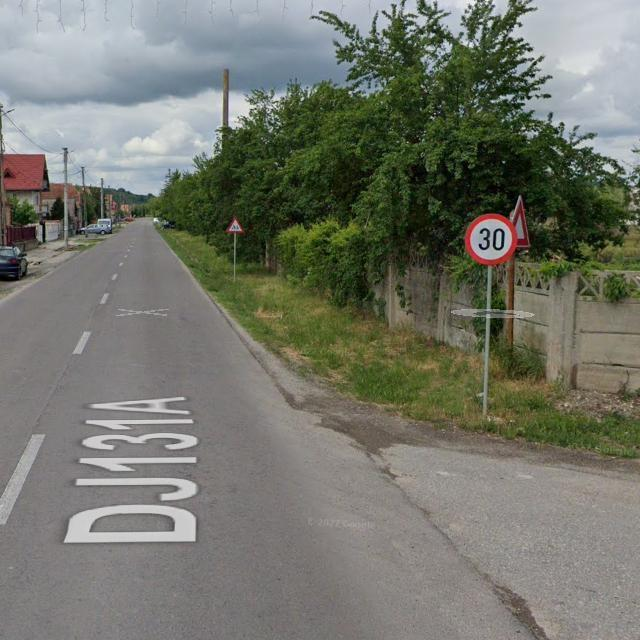forb_speed_over_30: (466, 215, 513, 264)
prio_give_way: (511, 198, 531, 248)
